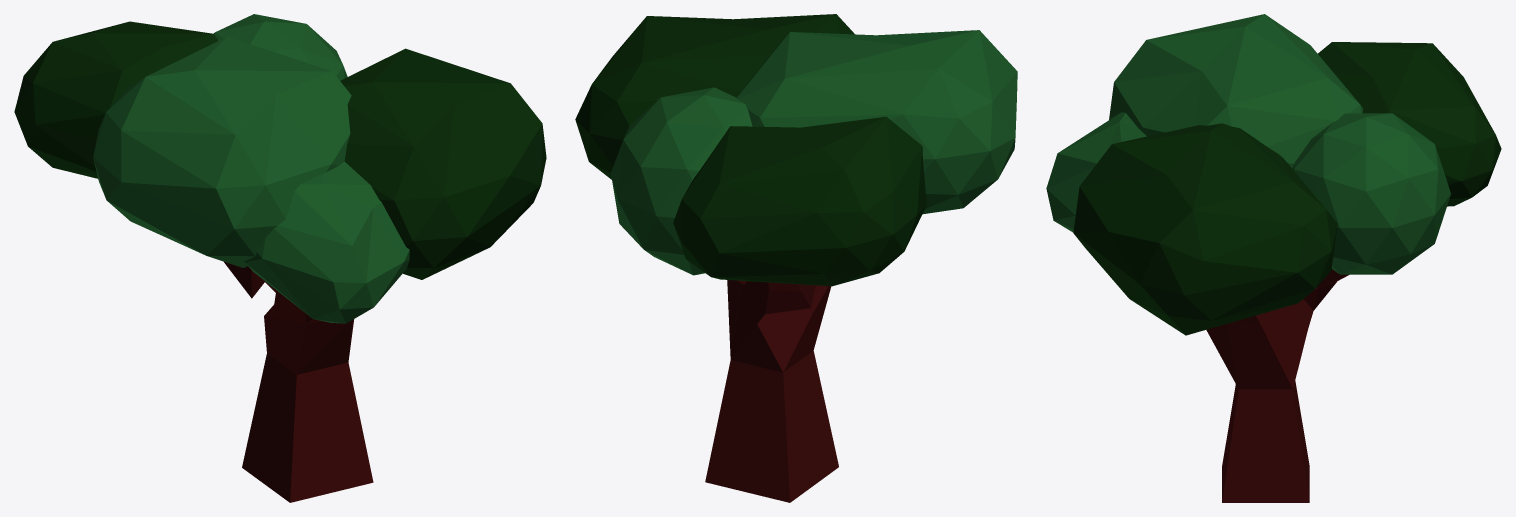
File: tree_green_03.fbx
3 renders of one model, left to right at view 1: azimuth 30°, elevation 25°; view 2: azimuth 150°, elevation 25°; view 3: azimuth 270°, elevation 25°, orthographic. The views are drawn at different scales.
Visible parts, largest first — view 1: Icosphere.037, Icosphere.040, Cube.006, Icosphere.039, Icosphere.038, Icosphere.041; view 2: Icosphere.038, Icosphere.037, Cube.006, Icosphere.040, Icosphere.041; view 3: Icosphere.040, Icosphere.037, Icosphere.041, Cube.006, Icosphere.038, Icosphere.039.
Boxes of the visible parts, box(x1,y1,x2,y2) form: Icosphere.037: box(93, 36, 351, 267); Icosphere.040: box(340, 48, 546, 279); Cube.006: box(224, 262, 373, 502); Icosphere.039: box(244, 161, 409, 323); Icosphere.038: box(14, 21, 217, 178); Icosphere.041: box(213, 14, 347, 80); Icosphere.038: box(673, 116, 926, 286); Icosphere.037: box(736, 30, 1017, 214); Cube.006: box(705, 280, 838, 502); Icosphere.040: box(575, 14, 854, 179); Icosphere.041: box(611, 87, 752, 275); Icosphere.040: box(1073, 123, 1337, 335); Icosphere.037: box(1109, 14, 1363, 168); Icosphere.041: box(1292, 113, 1450, 274); Cube.006: box(1206, 269, 1349, 502); Icosphere.038: box(1318, 42, 1501, 206); Icosphere.039: box(1046, 112, 1146, 232).
Bounding box in the file's own units: 1069 × 1109 × 1136.
